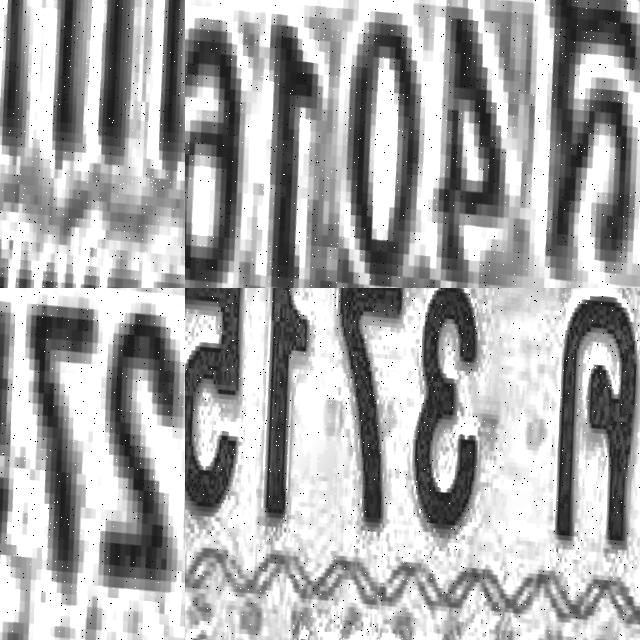license-plate: (185, 288, 640, 640), (185, 0, 640, 288), (0, 288, 185, 640), (0, 0, 185, 288)
